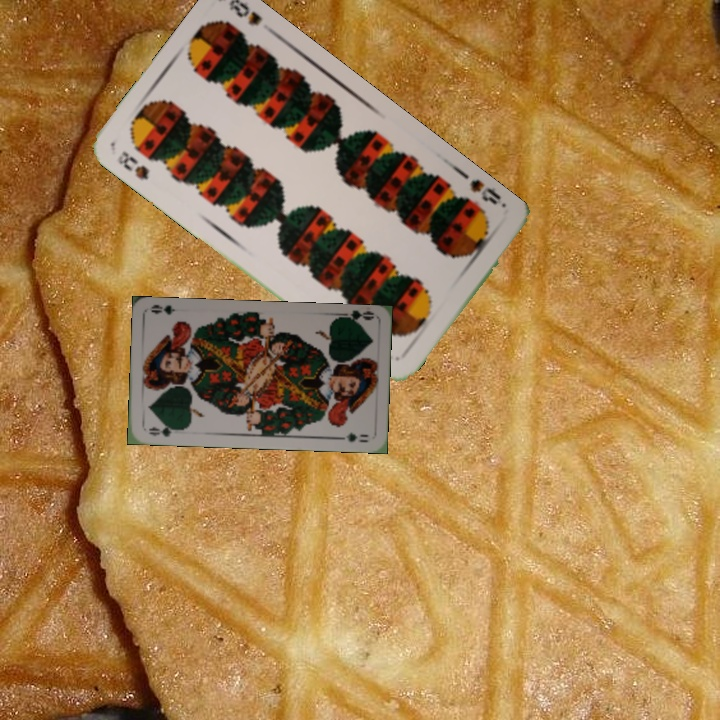GO: (335, 307, 376, 327), (144, 421, 183, 439)
S8: (113, 146, 152, 183), (466, 175, 504, 208)
